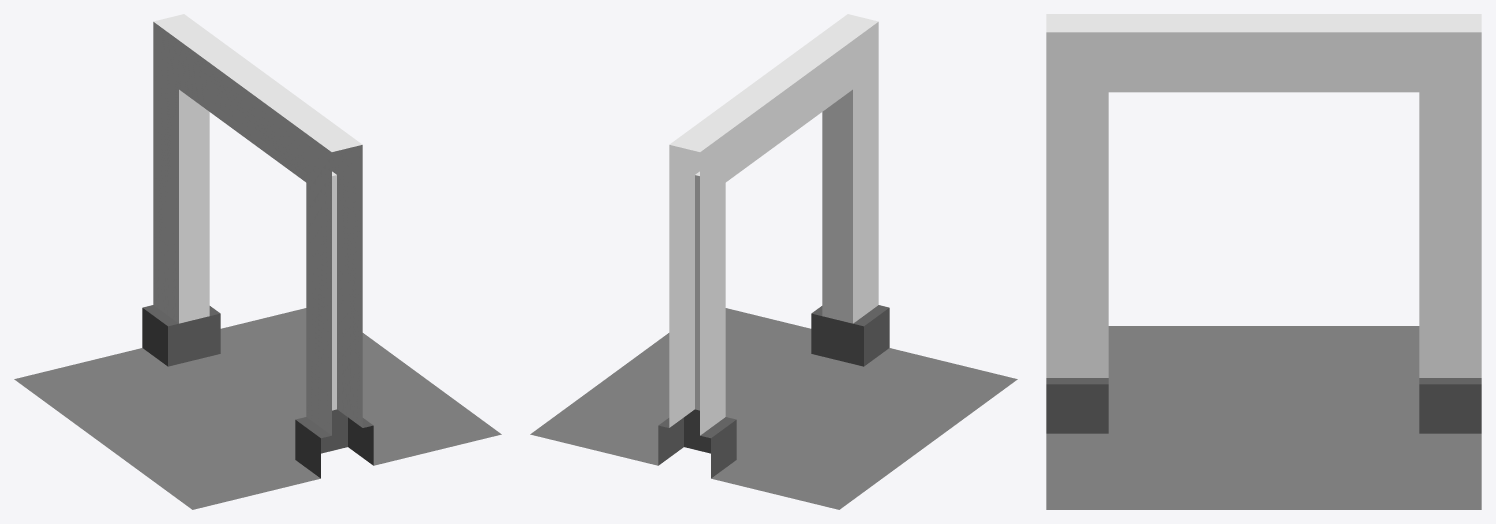
File: I_Wall_Straight_Door_Elevator.fbx
3 renders of one model, left to right at view 1: azimuth 30°, elevation 25°; view 2: azimuth 150°, elevation 25°; view 3: azimuth 270°, elevation 25°, orthographic. The views are drawn at different scales.
Visible parts, largest first — view 1: I_Wall_Straight_Door_Elevator; view 2: I_Wall_Straight_Door_Elevator; view 3: I_Wall_Straight_Door_Elevator.
Part boxes in pixels (left/top/right/bottom): I_Wall_Straight_Door_Elevator: left=14, top=14, right=501, bottom=509; I_Wall_Straight_Door_Elevator: left=530, top=14, right=1017, bottom=509; I_Wall_Straight_Door_Elevator: left=1046, top=14, right=1481, bottom=509.
Bounding box in the file's own units: 200 × 200 × 200.
